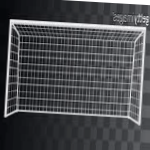goals: (5, 18, 147, 130)
